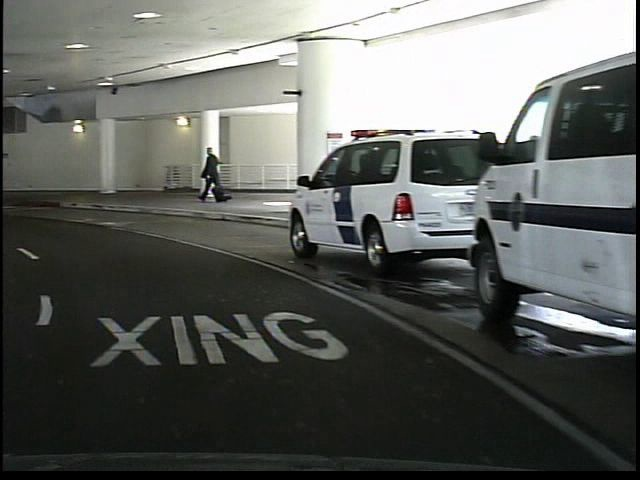person: (196, 144, 220, 204)
